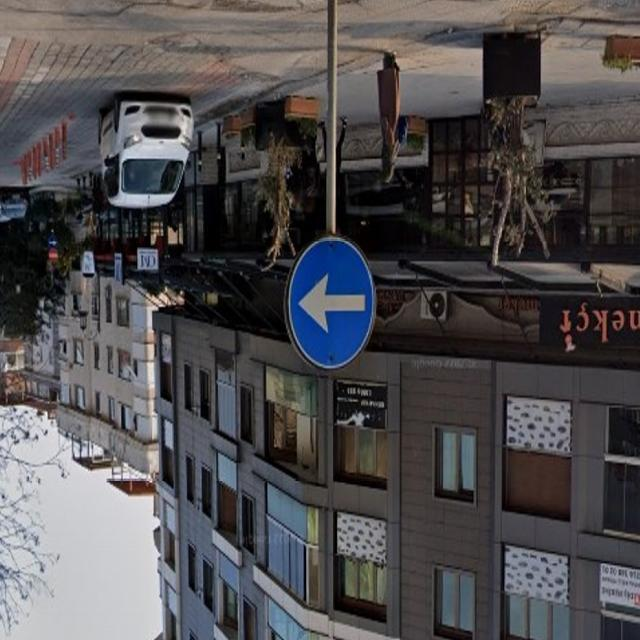Turn Left: (284, 242, 378, 377)
